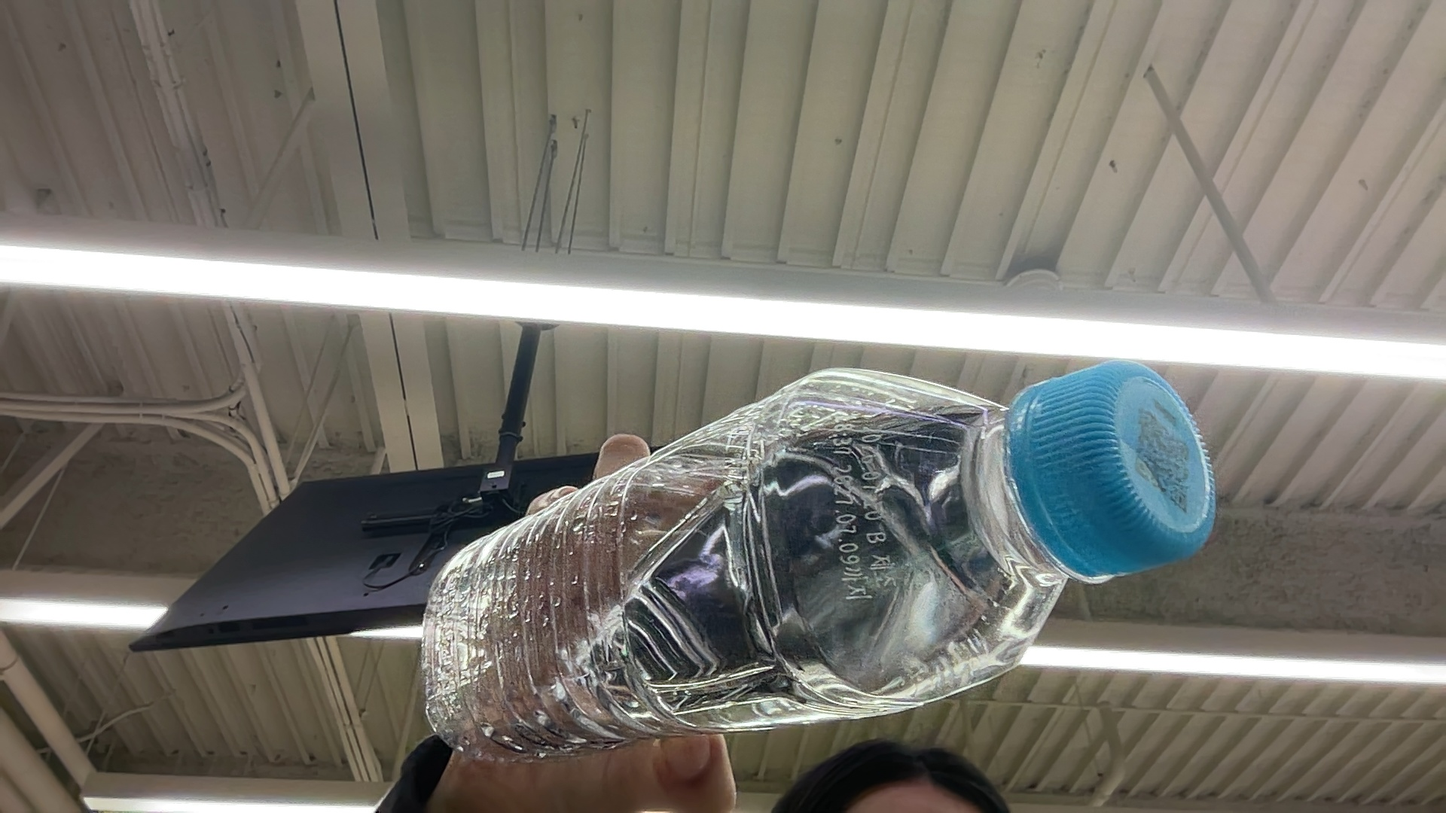Plastic: (996, 358, 1217, 579)
